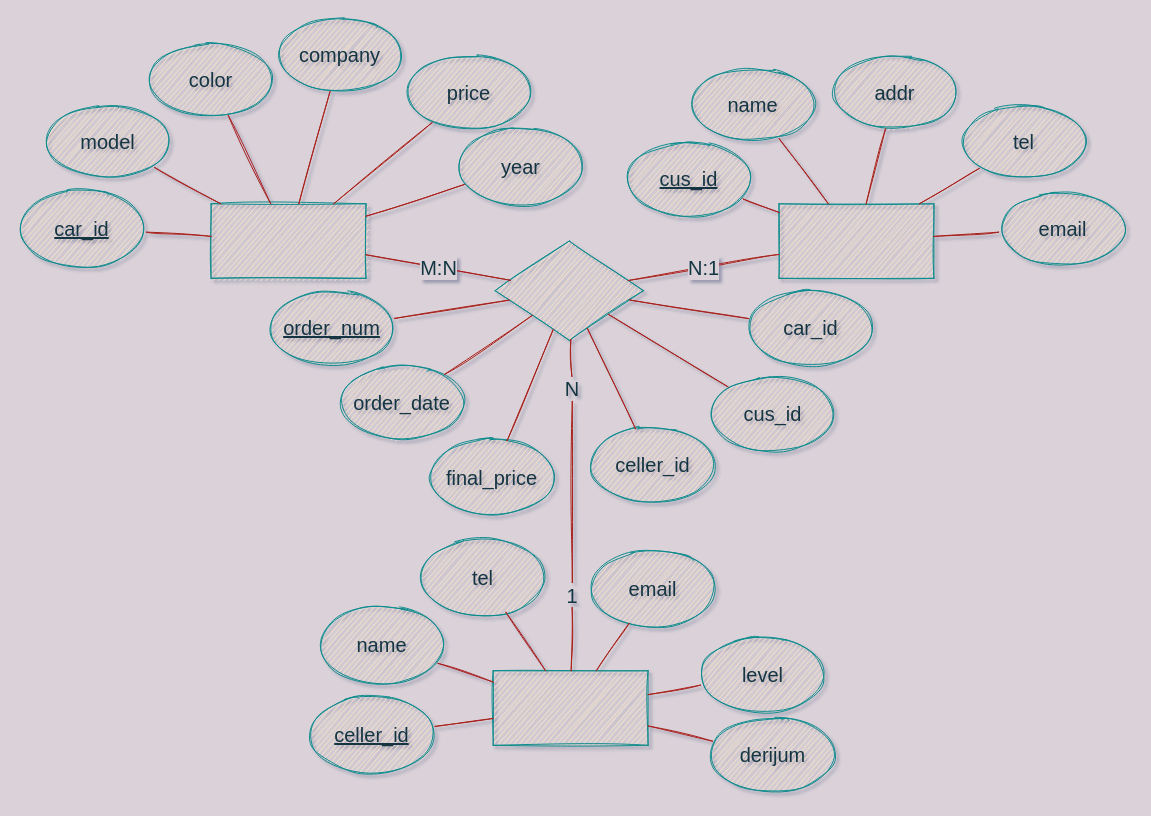
The diagram is 1151 pixels wide and 816 high, and some of its shapes have lost their labels. The centre of each missing label's shape, as x and y in pixels:
"car" goes at pixel 288 240.
"customer" goes at pixel 856 240.
"order" goes at pixel 569 290.
"seller" goes at pixel 570 707.
